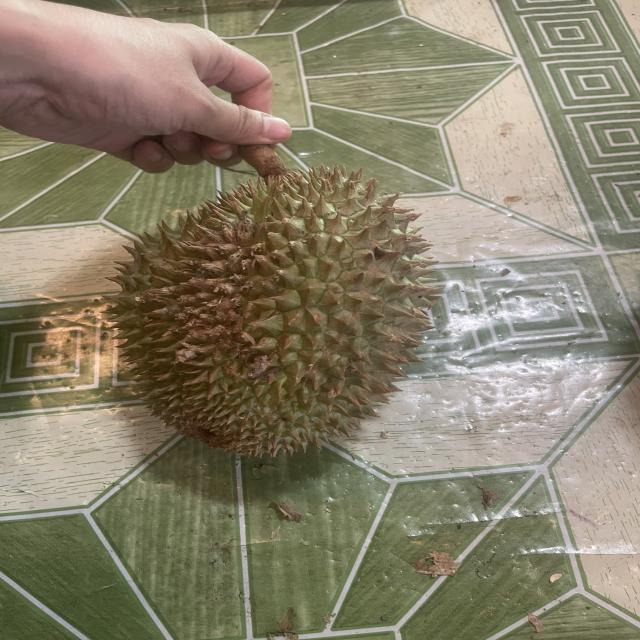mature: (106, 175, 453, 468)
